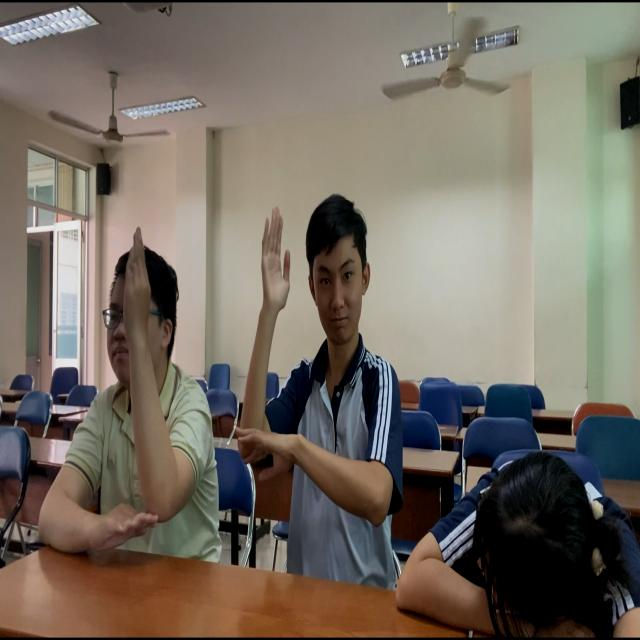raise_hand: (240, 191, 409, 576), (34, 231, 213, 561)
sleep: (396, 427, 640, 640)
